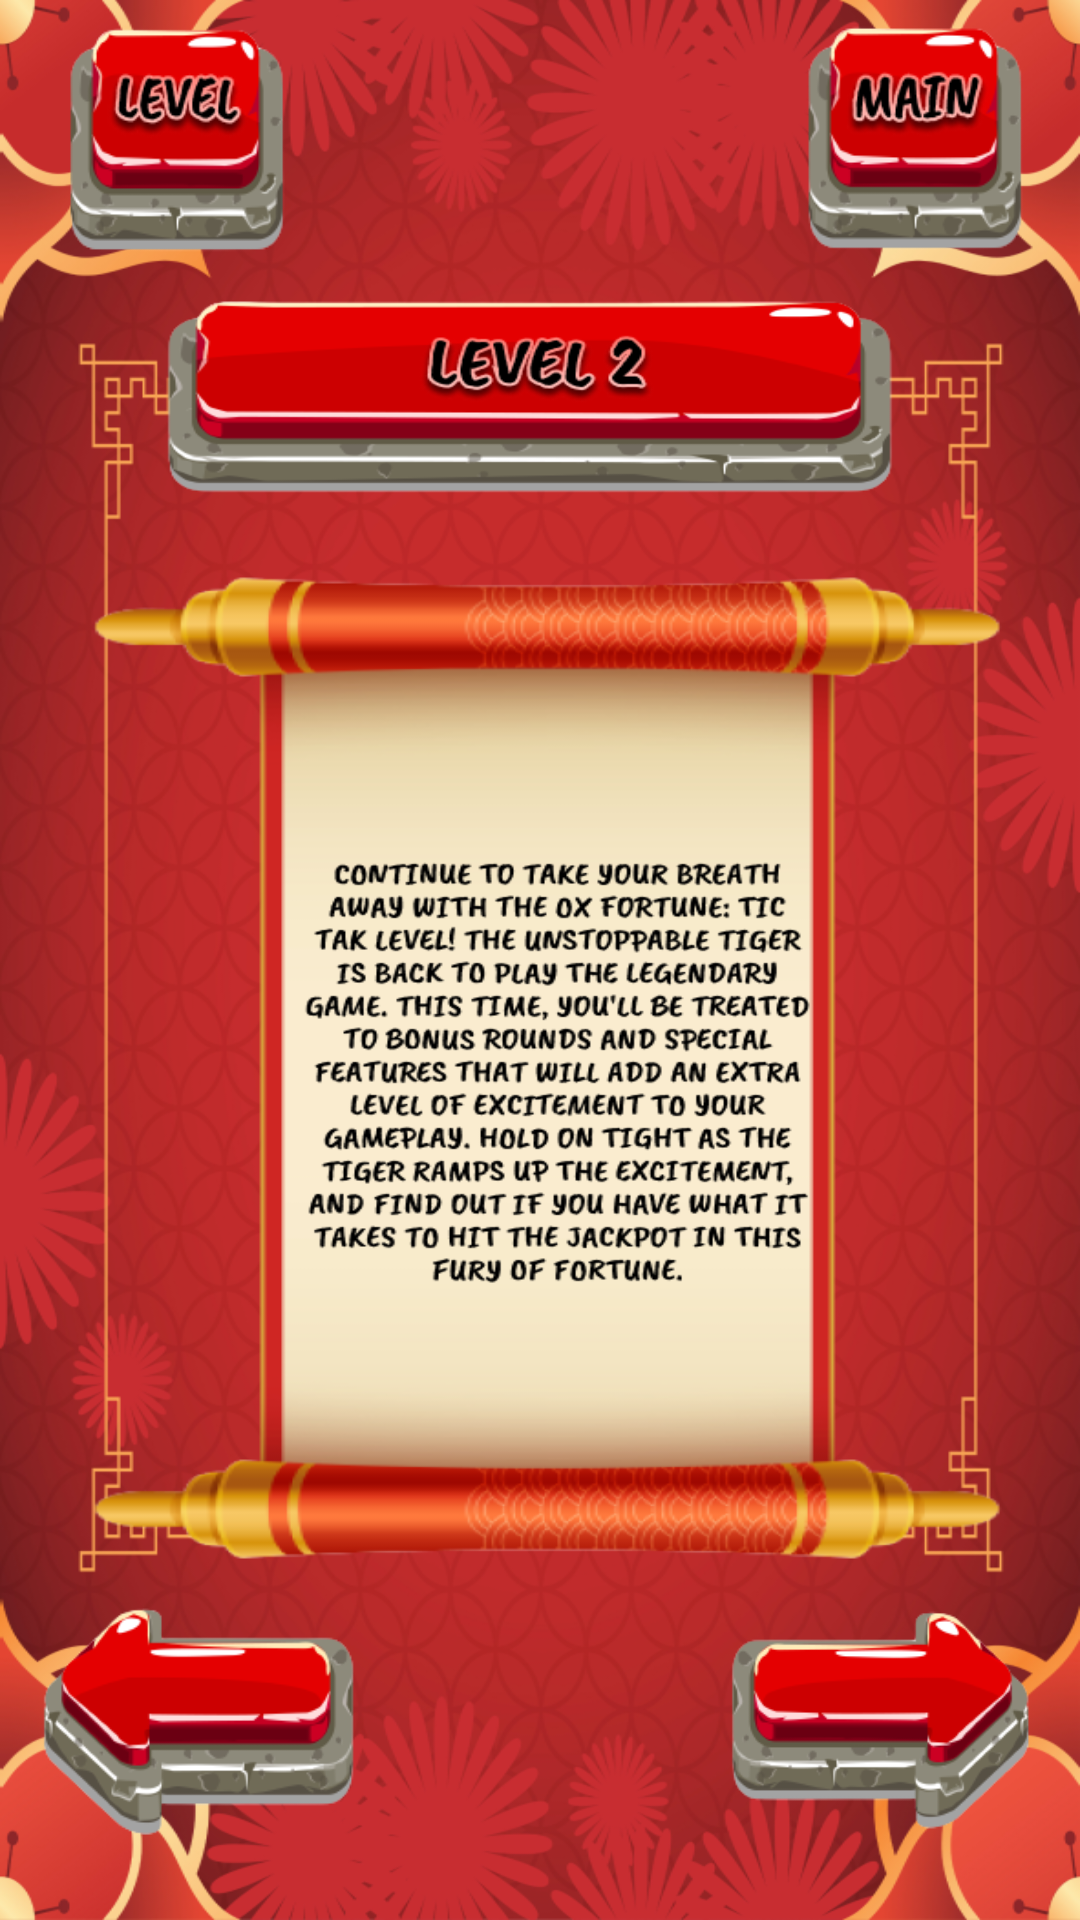

Icons on this 1080x1920 Android screen, each with the point to tap as (x,y):
back tap: (199,1725)
next tap: (879,1725)
